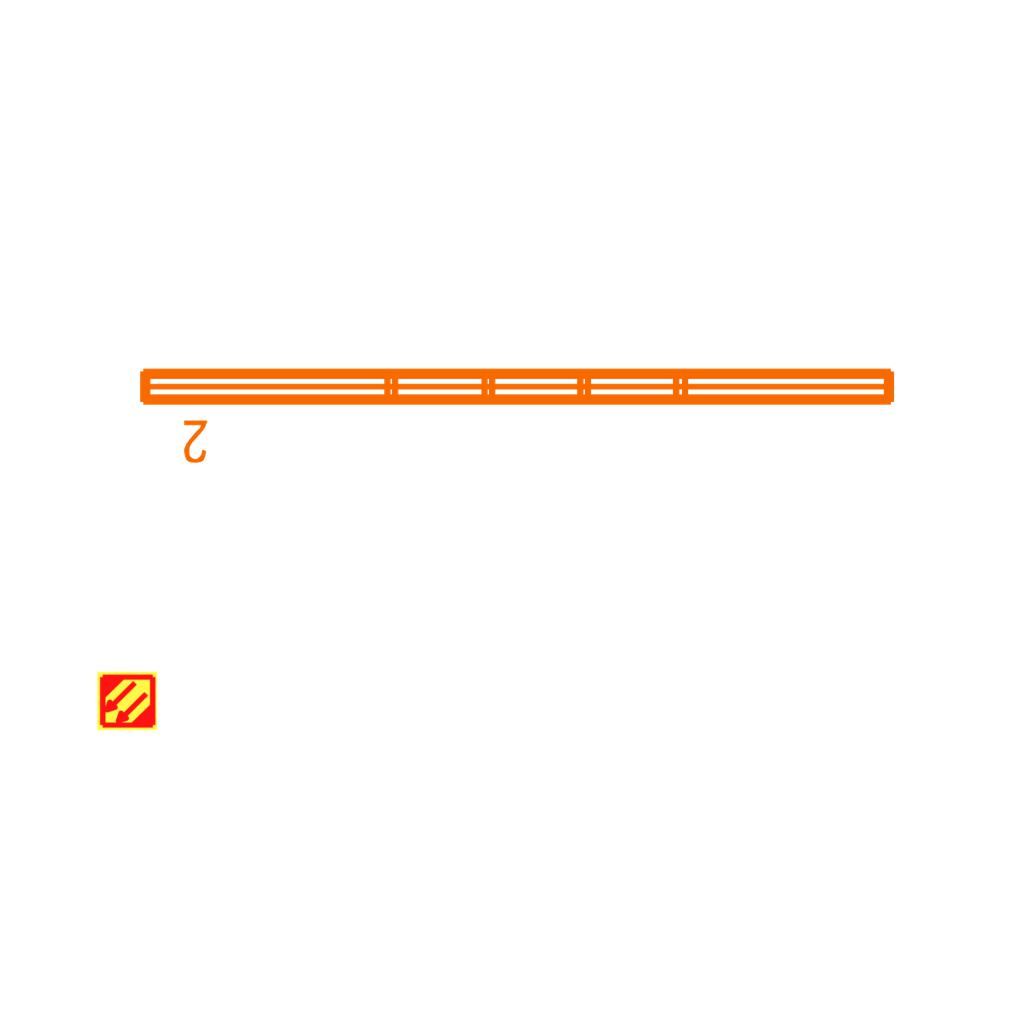ASR_Ansaugrauchmelder: (96, 670, 158, 732)
Ambulanz_Pendelleuchte_LED: (131, 356, 905, 468)
